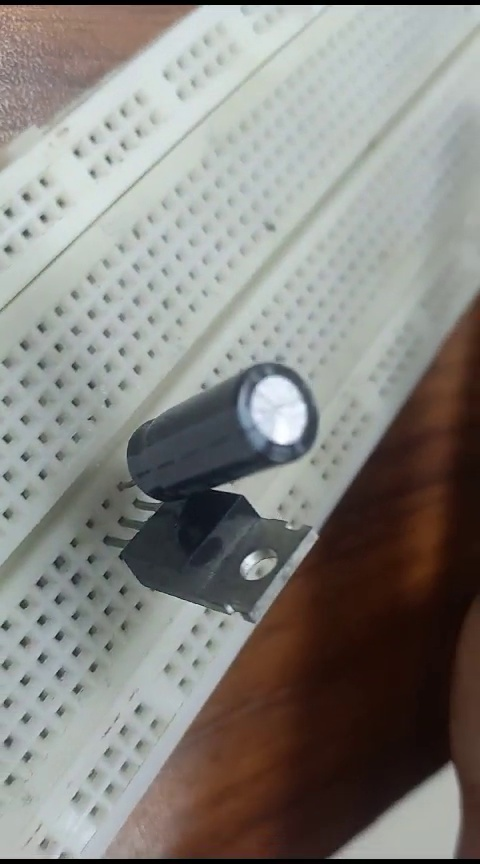capacitor: (123, 351, 326, 489)
voltage regulator: (110, 489, 320, 615)
